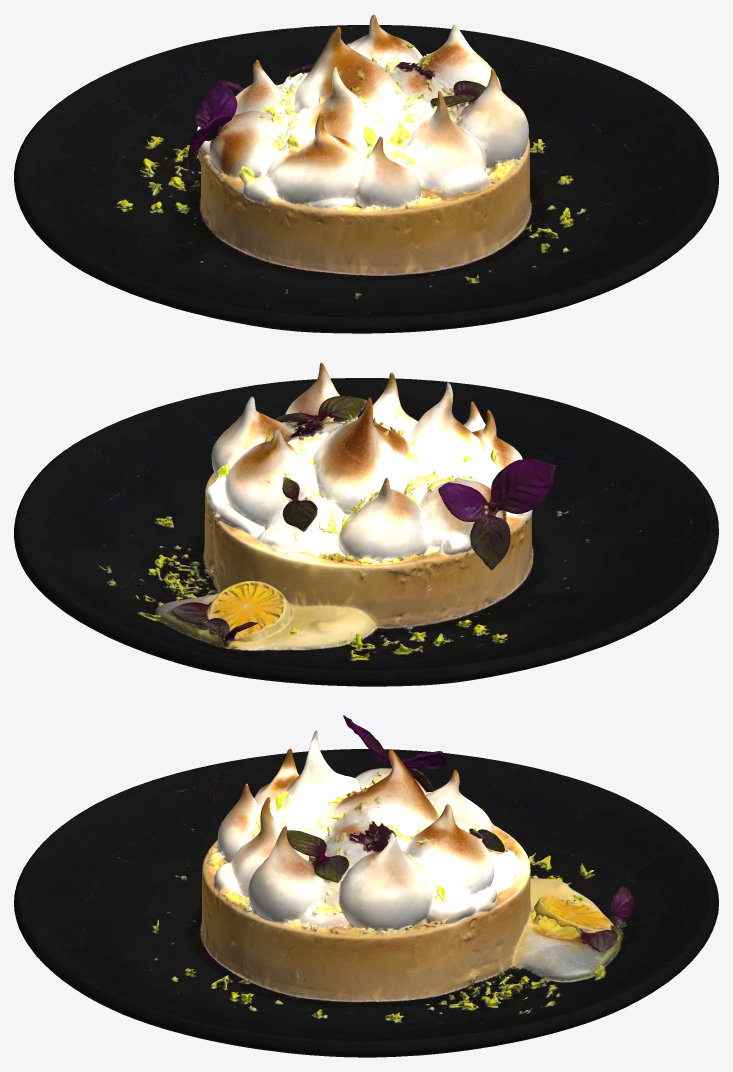
Rendered from tarte-citron-basilic-ar-lite-meshy.glb.
3 renders of one model, top to bottom at view 1: azimuth 30°, elevation 25°; view 2: azimuth 150°, elevation 25°; view 3: azimuth 270°, elevation 25°, orthographic.
Visible parts, largest first — view 1: node0; view 2: node0; view 3: node0.
Boxes of the visible parts, bbox=[...] form: node0: bbox=[14, 14, 718, 333]; node0: bbox=[14, 362, 718, 686]; node0: bbox=[14, 715, 718, 1057].
Bounding box in the file's own units: 0.18 × 0.0618 × 0.18.
1 material, 1 textured.
